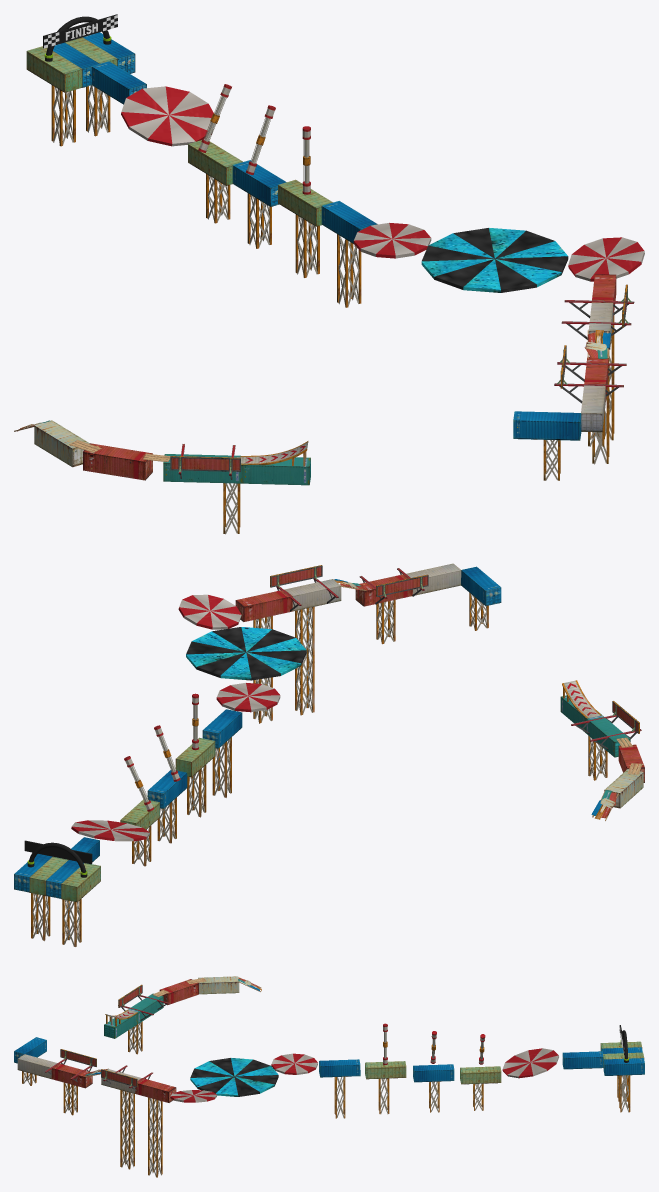
File: 15_Parkour.fbx
3 renders of one model, top to bottom at view 1: azimuth 30°, elevation 25°; view 2: azimuth 150°, elevation 25°; view 3: azimuth 270°, elevation 25°, orthographic. The views are drawn at different scales.
Visible parts, largest first — view 1: TurningPlatform, TurningPlatformFast__2_, TurningPlatformFast, TurningPlatformFast__1_, stcontainerblue__1_, stcontainerred__4_, stcontainergreentwo__3_, stcontainergreen__1_, stcontainerwhite__1_, finishObject, stcontainerblue__3_, stcontainergreentwo (+15 smaller); view 2: TurningPlatform, TurningPlatformFast, TurningPlatformFast__1_, TurningPlatformFast__2_, stcontainerred__6_, stcontainerwhitetwo__1_, stcontainerblue__1_, finishObject, stcontainergreentwo__3_, stcontainerwhitetwo, stcontainerblue__2_, stcontainergreentwo (+20 smaller); view 3: TurningPlatform, TurningPlatformFast__2_, TurningPlatformFast__1_, stcontainerblue__2_, stcontainerblue__3_, stcontainergreentwo__1_, stcontainerblue__4_, stcontainergreentwo, stcontainerblue__5_, stcontainerwhite__1_, stcontainerred__5_, stcontainerred__6_ (+18 smaller).
Boxes of the visible parts, x1,y1,x2,y2 form: TurningPlatform: (421, 228, 568, 292); TurningPlatformFast__2_: (121, 86, 213, 146); TurningPlatformFast: (568, 237, 644, 281); TurningPlatformFast__1_: (353, 222, 431, 258); stcontainerblue__1_: (513, 411, 581, 440); stcontainerred__4_: (83, 443, 152, 480); stcontainergreentwo__3_: (26, 46, 82, 92); stcontainergreen__1_: (243, 457, 310, 485); stcontainerwhite__1_: (34, 420, 89, 467); finishObject: (43, 14, 117, 61); stcontainerblue__3_: (232, 160, 286, 206); stcontainergreentwo: (278, 179, 332, 226); TurningPlatform: (186, 627, 306, 680); TurningPlatformFast: (178, 594, 241, 629); TurningPlatformFast__1_: (216, 683, 280, 712); TurningPlatformFast__2_: (71, 820, 149, 841); stcontainerred__6_: (235, 589, 292, 621); stcontainerwhitetwo__1_: (285, 579, 341, 611); stcontainerblue__1_: (461, 566, 501, 605); finishObject: (24, 840, 92, 877); stcontainergreentwo__3_: (61, 863, 100, 902); stcontainerwhitetwo: (406, 563, 461, 595); stcontainerblue__2_: (202, 709, 242, 748); stcontainergreentwo: (175, 737, 215, 777); TurningPlatform: (190, 1058, 278, 1096); TurningPlatformFast__2_: (502, 1048, 558, 1078); TurningPlatformFast__1_: (271, 1053, 317, 1074); stcontainerblue__2_: (319, 1059, 360, 1077); stcontainerblue__3_: (413, 1064, 454, 1082); stcontainergreentwo__1_: (460, 1066, 501, 1084); stcontainerblue__4_: (562, 1051, 603, 1069); stcontainergreentwo: (365, 1061, 406, 1079); stcontainerblue__5_: (603, 1058, 644, 1075); stcontainerwhite__1_: (198, 976, 239, 994); stcontainerred__5_: (51, 1063, 92, 1088); stcontainerred__6_: (135, 1078, 176, 1102).
Size of the model in its own units: 16356 by 5406 by 25956.
